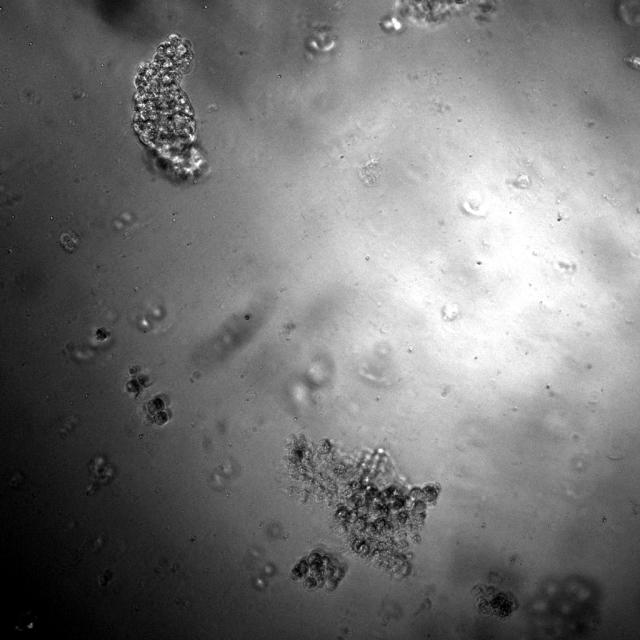organoid: (284, 433, 441, 577), (132, 34, 208, 183), (525, 574, 601, 639), (379, 0, 497, 32), (290, 549, 346, 592), (473, 584, 517, 619), (86, 455, 116, 495), (142, 394, 171, 427), (124, 366, 151, 401), (59, 229, 79, 253), (94, 327, 111, 342)
